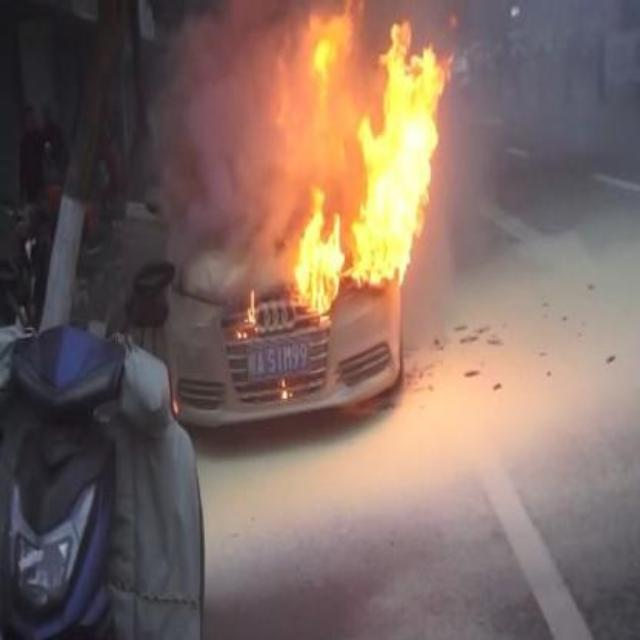Fire: (288, 9, 460, 314), (237, 292, 261, 332), (168, 391, 184, 411), (283, 376, 289, 398)
Smoke: (185, 1, 282, 278)
